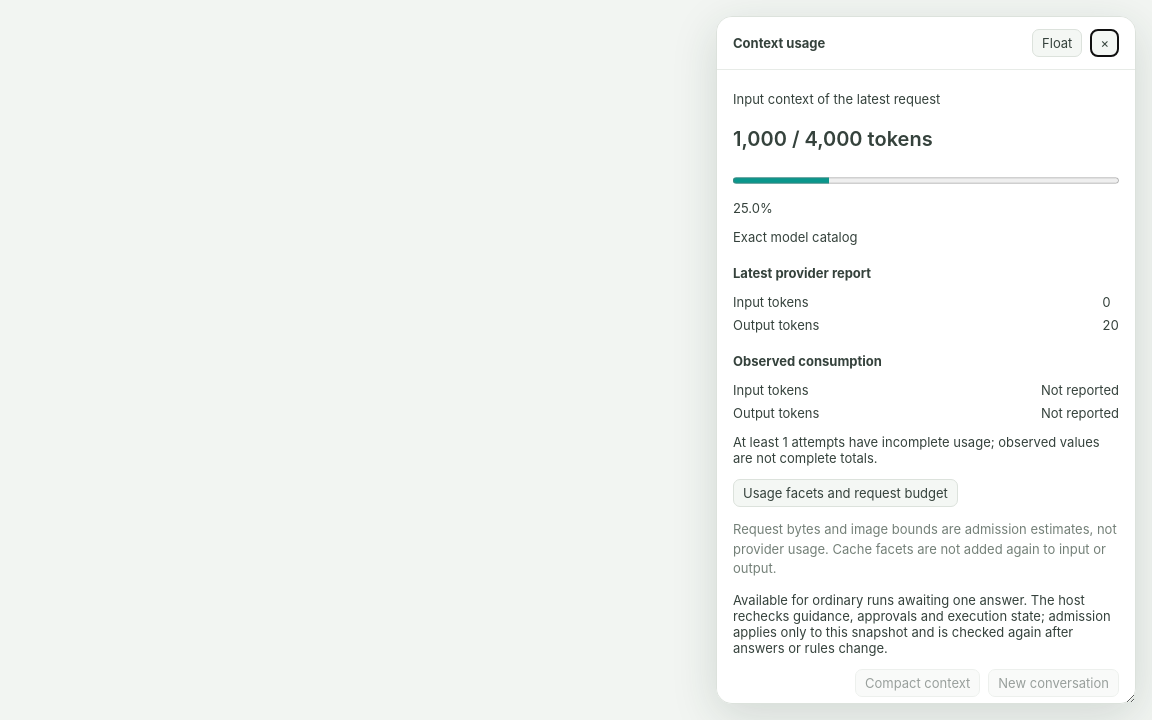
Scenario: keeps explicit zero distinct from missing usage and request bytes
The image size is (1152, 720).
Expected: the text "25.0%" is shown, [733, 200, 773, 216]
Expected: the text "0" is shown, [1102, 294, 1110, 310]
Click the button "Usage facets and request budget" at (845, 493), box [733, 479, 958, 507]
(page scrolled)
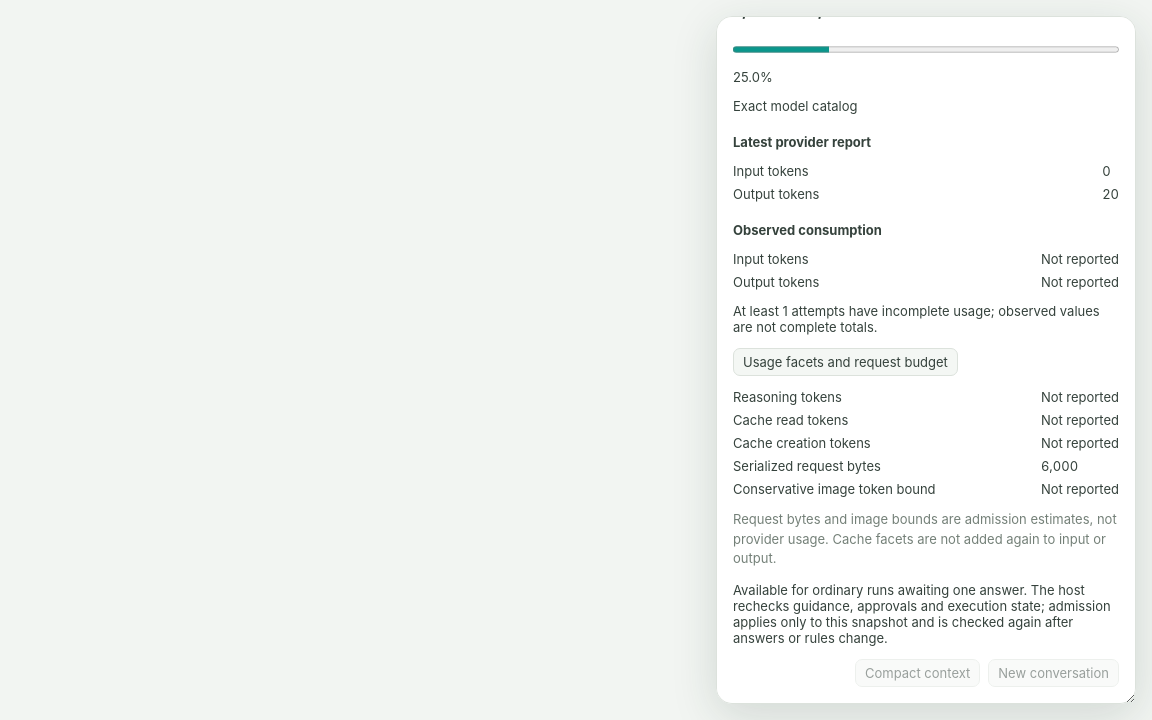
Expected: the button "Compact context" is disabled, [855, 658, 980, 686]
Result: the text "6,000" is shown at [1041, 458, 1078, 474]
Result: the text "Serialized request bytes" is shown at [733, 458, 881, 474]
